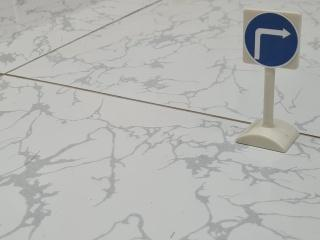right: (231, 8, 308, 73)
